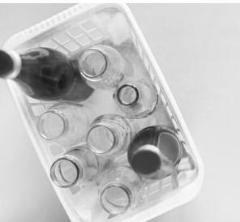glass: (0, 45, 182, 217)
